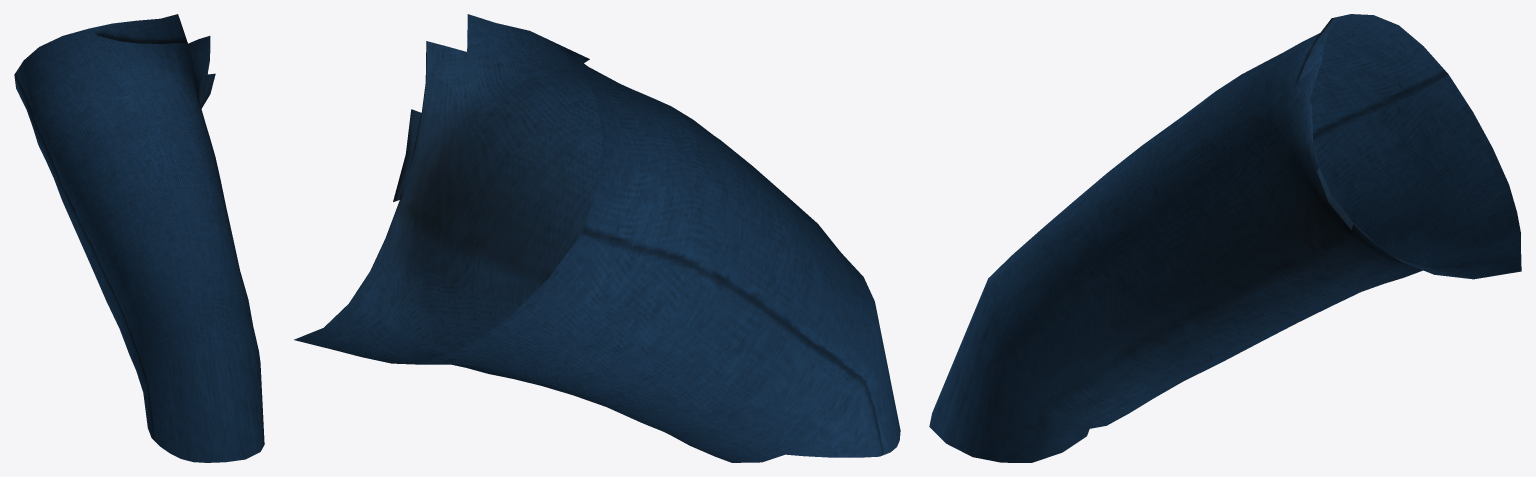
File: musloder.obj
The picture shows the model from 3 angles, left to right: view 1: azimuth 30°, elevation 25°; view 2: azimuth 150°, elevation 25°; view 3: azimuth 270°, elevation 25°; orthographic projection. The views are drawn at different scales.
Parts seen in each view (by area): view 1: polySurface37 polySurface36 polySurface34 polySurface30 polySurf; view 2: polySurface37 polySurface36 polySurface34 polySurface30 polySurf; view 3: polySurface37 polySurface36 polySurface34 polySurface30 polySurf.
Boxes of the visible parts, x1,y1,x2,y2 form: polySurface37 polySurface36 polySurface34 polySurface30 polySurf: [14, 14, 264, 462]; polySurface37 polySurface36 polySurface34 polySurface30 polySurf: [294, 14, 900, 462]; polySurface37 polySurface36 polySurface34 polySurface30 polySurf: [929, 14, 1521, 462].
Bounding box in the file's own units: 0.095 × 0.1717 × 0.2148.
Materials: 1 (1 with a texture image).
